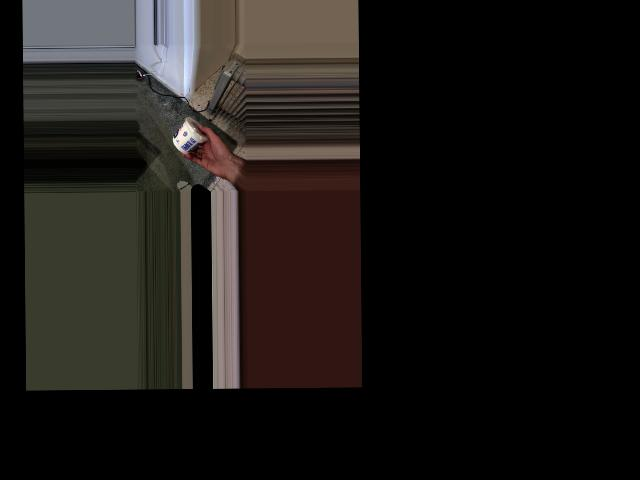cotage: (172, 115, 209, 156)
